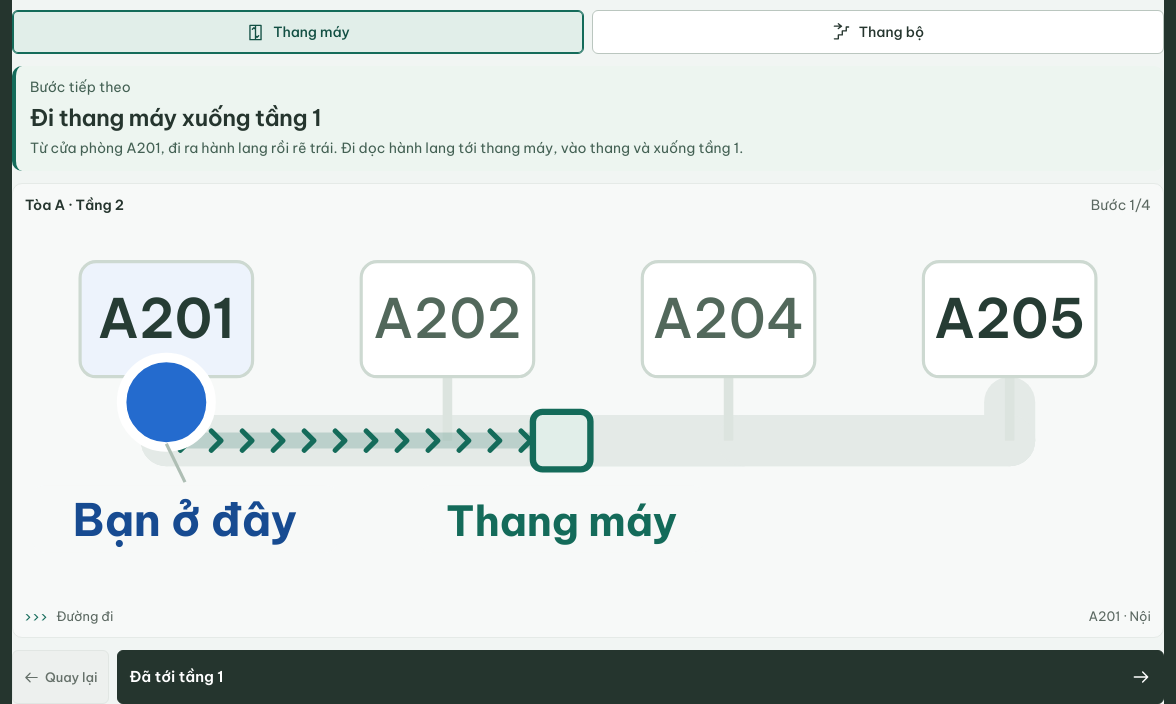
current destination guidance › returns through earlier floor and building checkpoints while navigating
(page scrolled)
Click the button with class "navigation-advance".
click(177, 677)  # box 117,650 -> 1164,703
(page scrolled)
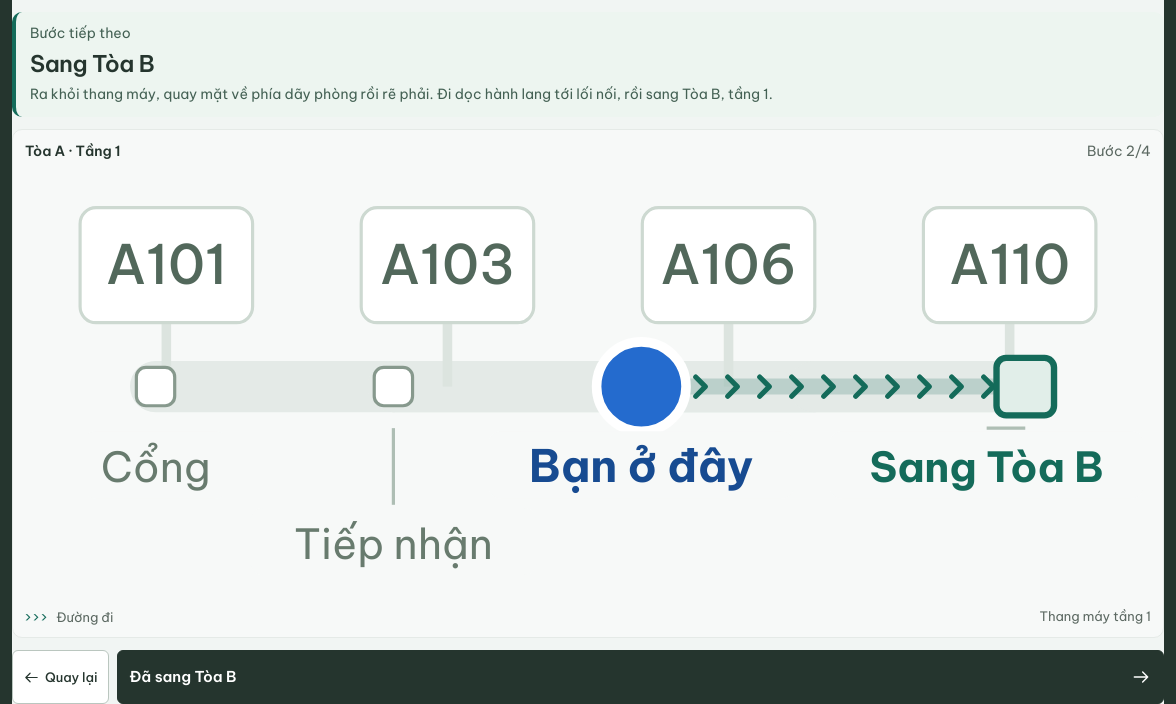
Click the button with class "navigation-advance".
click(183, 677)  # box 117,650 -> 1164,703
(page scrolled)
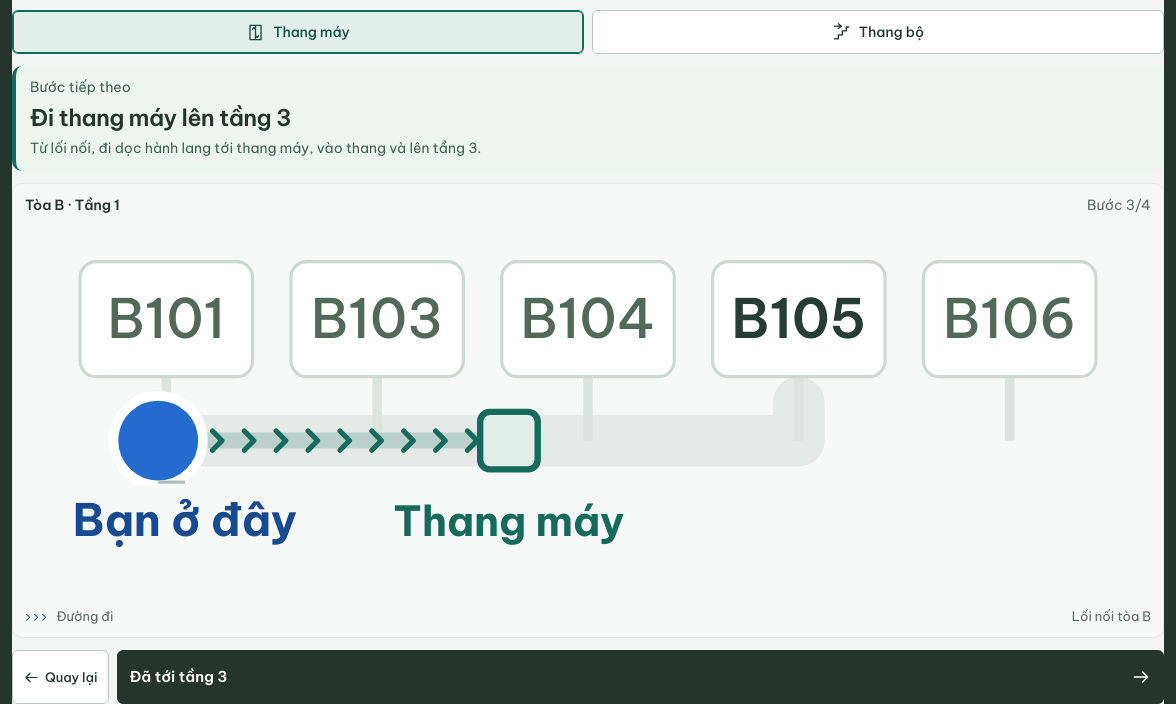
Click the button with class "navigation-advance".
click(178, 677)  # box 117,650 -> 1164,703
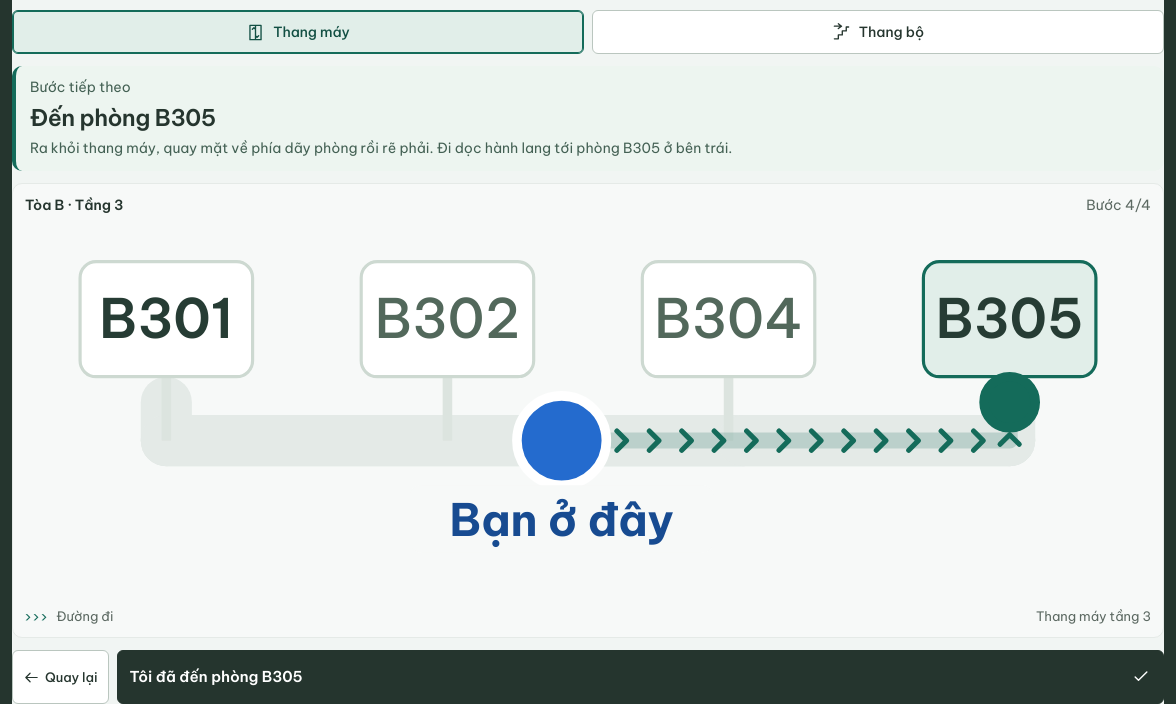
Click the button with class "navigation-back".
click(60, 677)  # box 12,650 -> 109,703
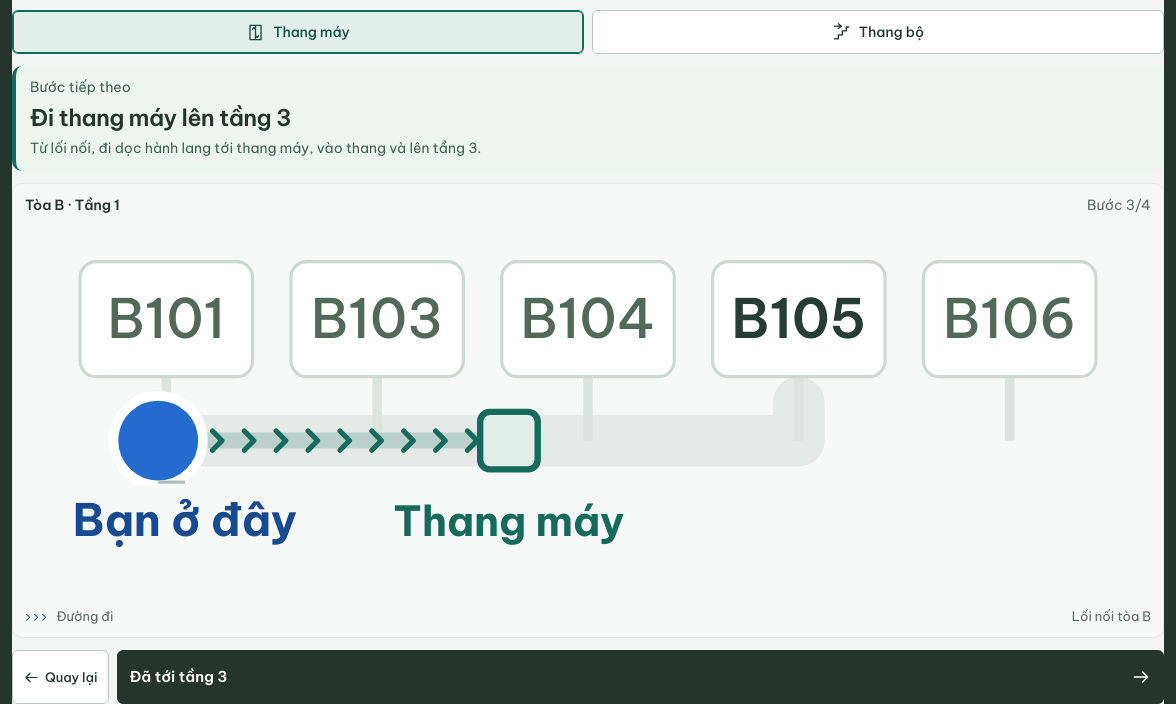
Click the button with class "navigation-back".
click(60, 677)  # box 12,650 -> 109,703
(page scrolled)
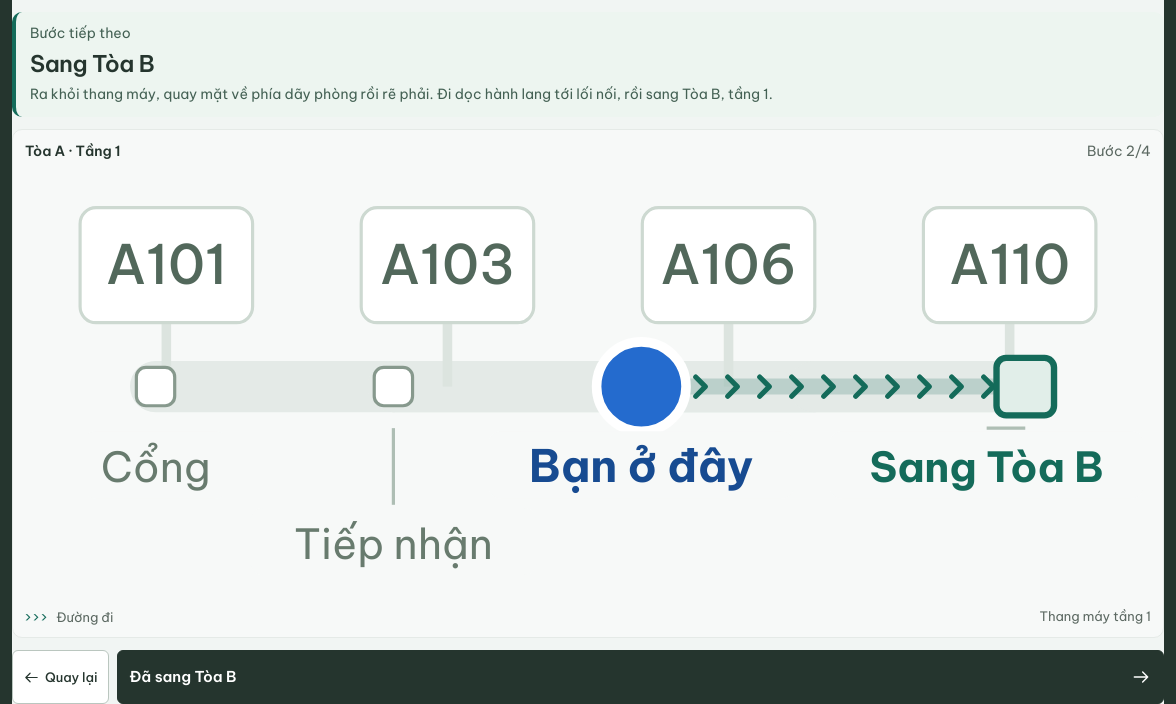
Click the button with class "navigation-back".
click(60, 677)  # box 12,650 -> 109,703
(page scrolled)
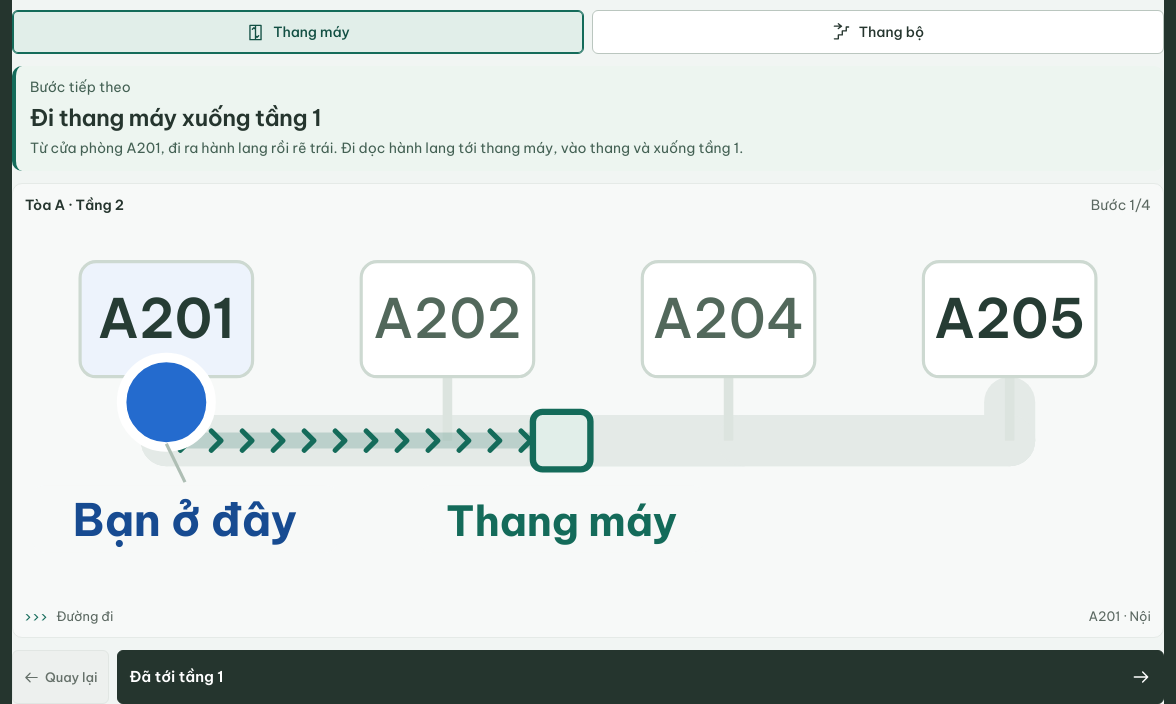
Now the button with class "navigation-back" is disabled, box 12,650 -> 109,703
